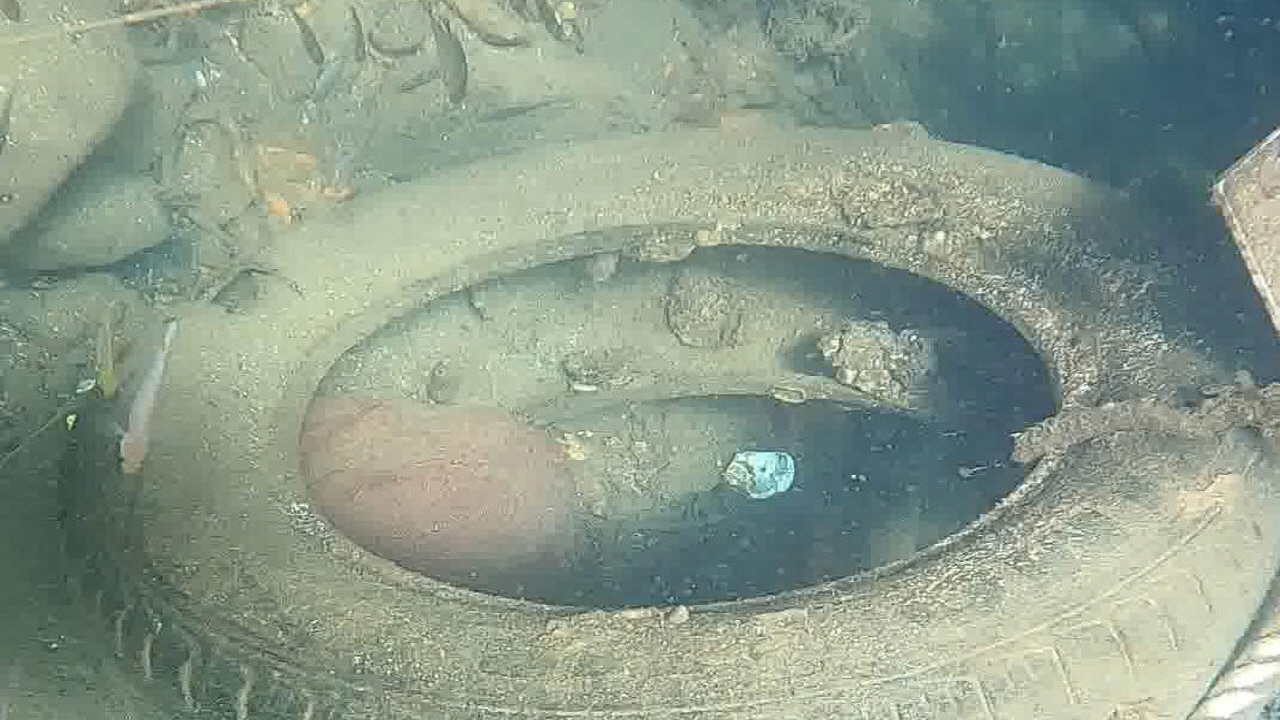tire: (63, 125, 1280, 720)
